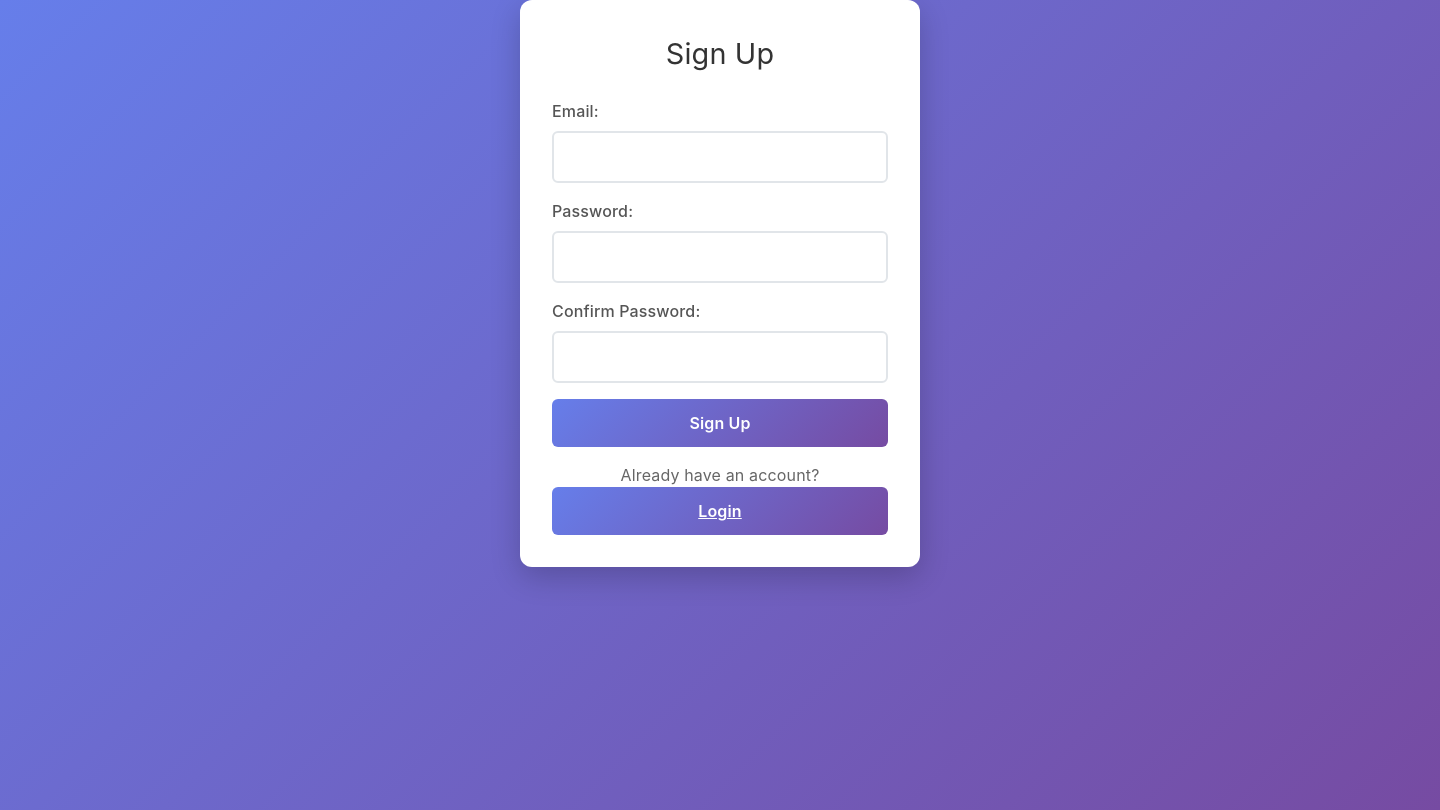
Authentication Components › Signup Component › validates password length
The width and height of the screenshot is (1440, 810).
Type "test@example.com" into the field labelled "Email:". click: (720, 157)
box: top-left (552, 131), bottom-right (888, 183)
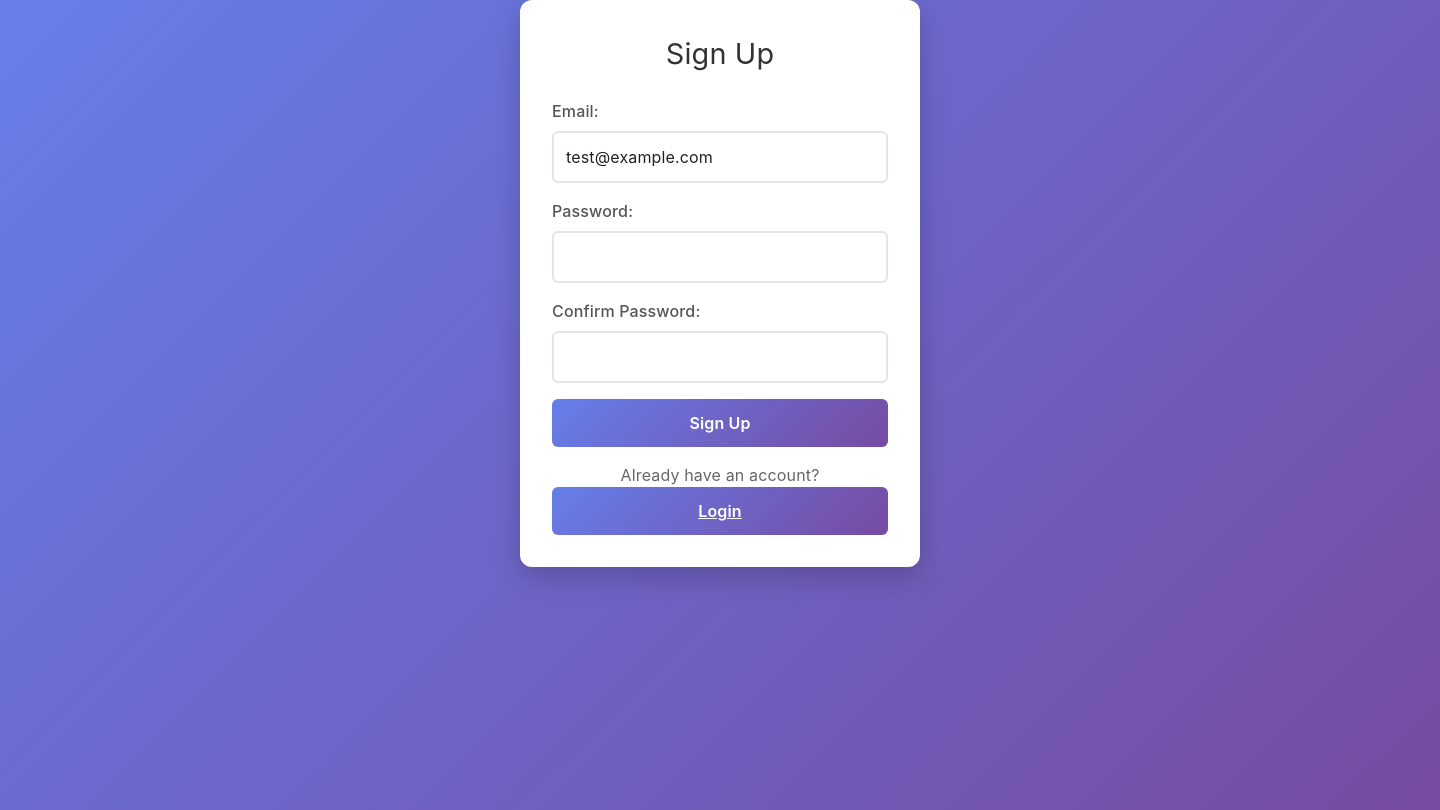
Type "123" into the password field labelled "Password:". click: (720, 257)
box: top-left (552, 231), bottom-right (888, 283)
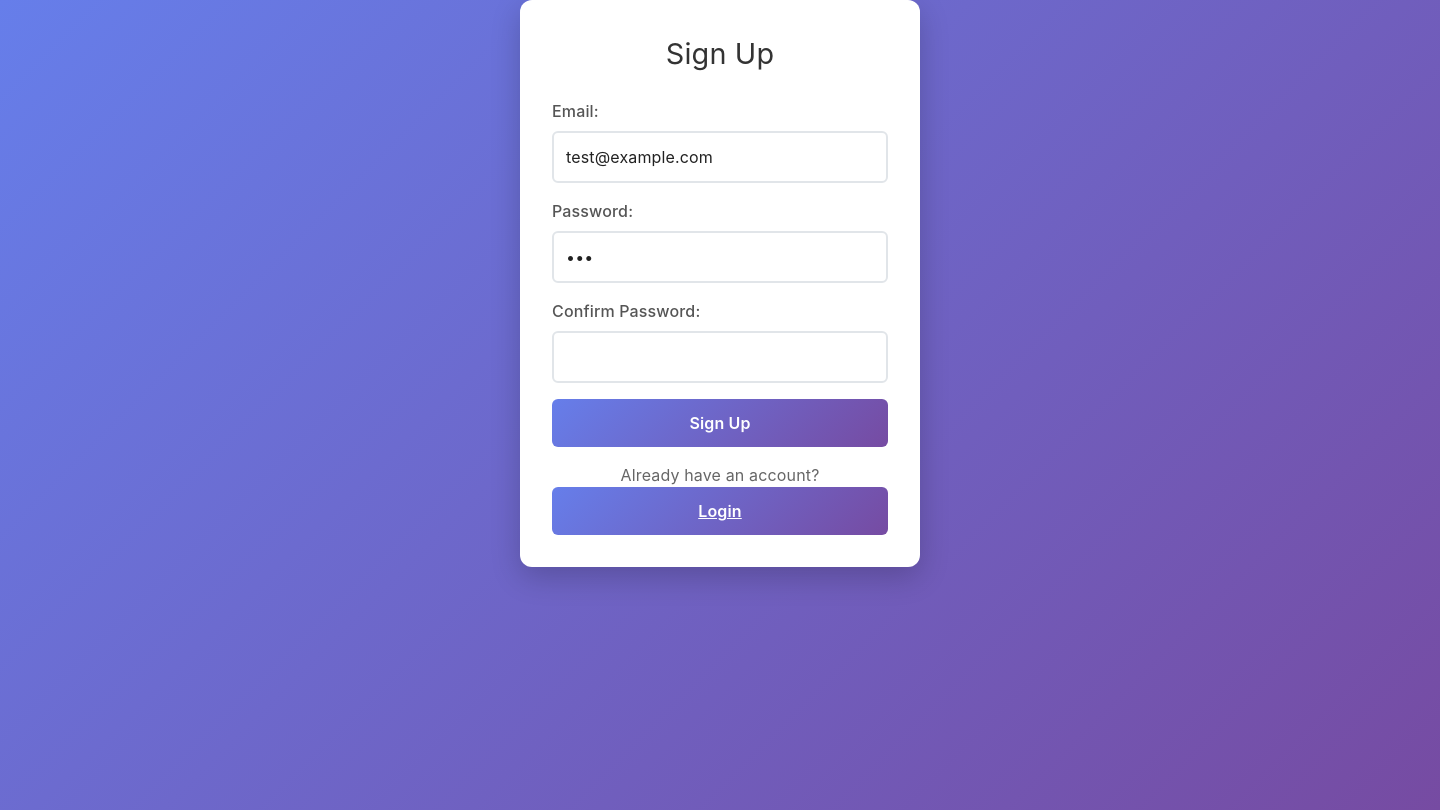
Type "123" into the password field labelled "Confirm Password:". click: (720, 357)
box: top-left (552, 331), bottom-right (888, 383)
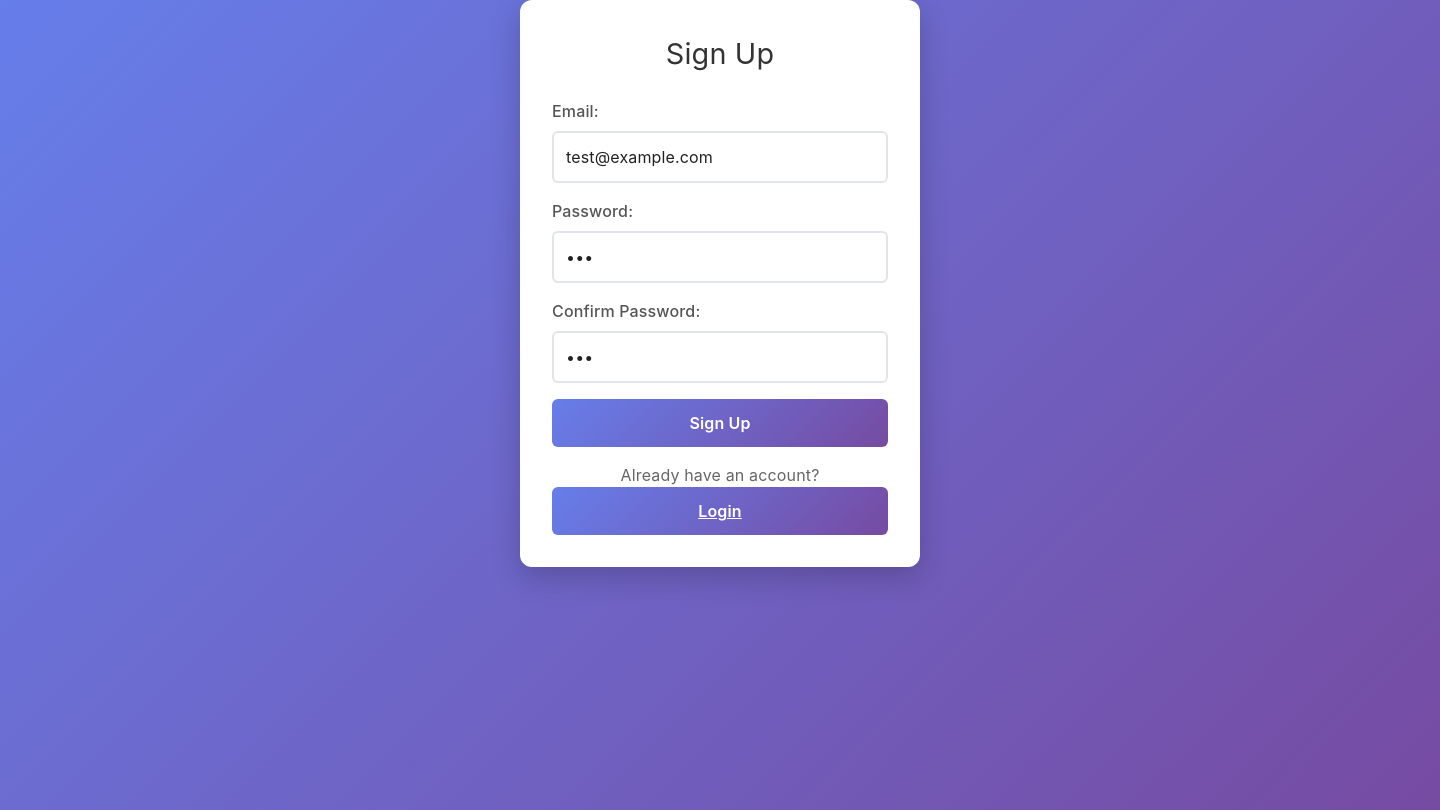
Click the button "Sign Up". click: (720, 423)
box: top-left (552, 399), bottom-right (888, 447)
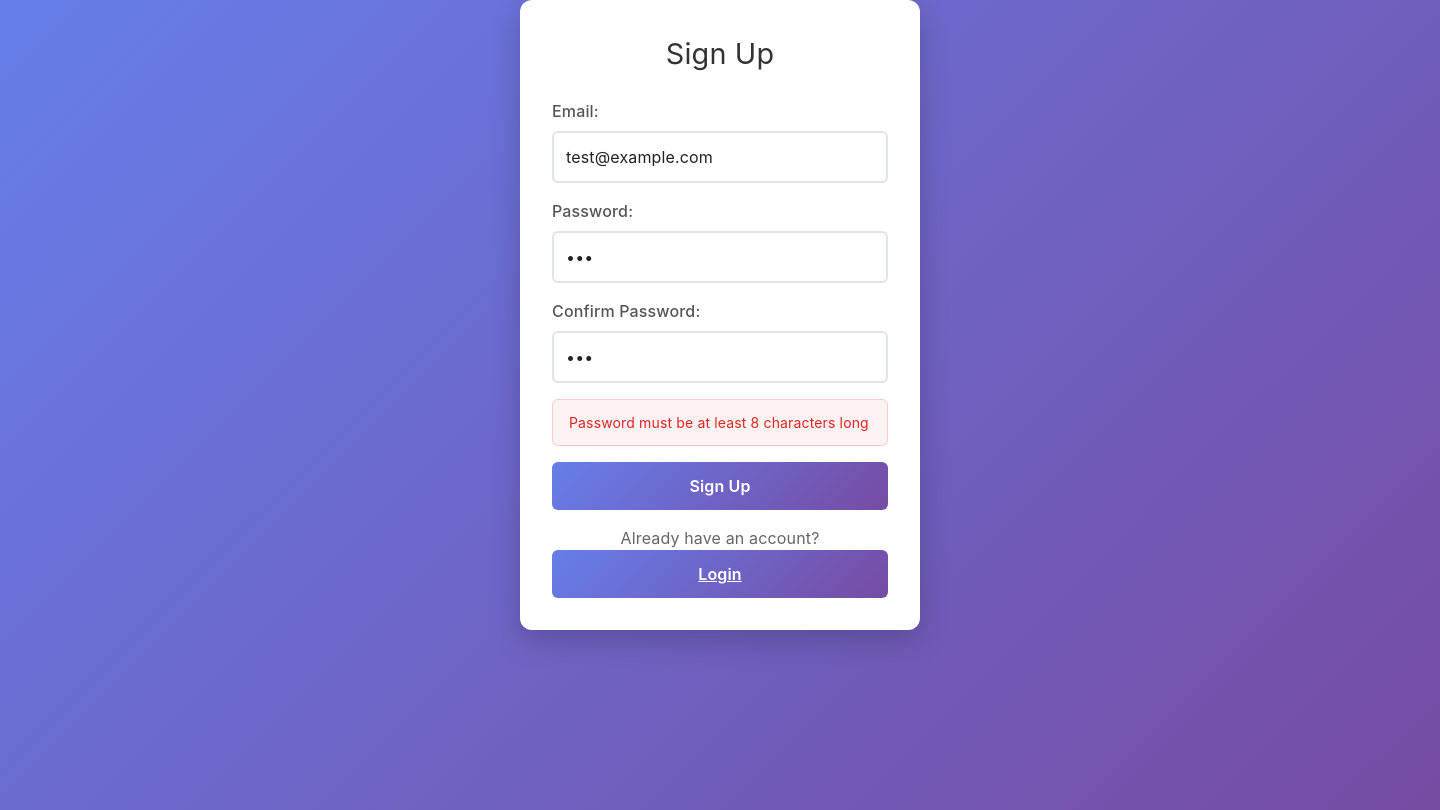
Expected: the text "Password must be at least 8 characters long" is shown, top-left (552, 399), bottom-right (888, 446)
